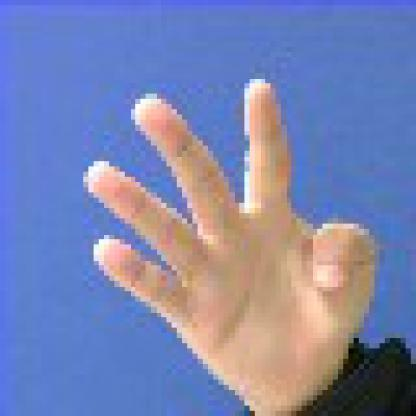four: (66, 72, 393, 414)
